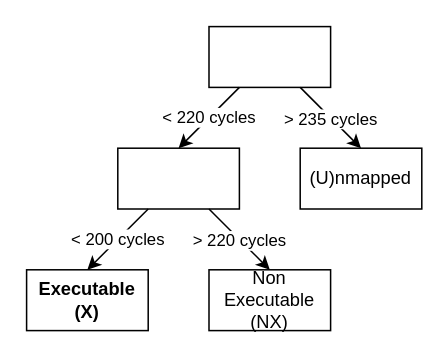
The diagram is 448 pixels wide and 357 high, and some of its shapes have lost their labels. The shapes that lost their labels are listed below. From the top down, each one's centre as x and y in pixels, then its label:
At point (269, 56): "address".
At point (177, 178): "(M)apped".
